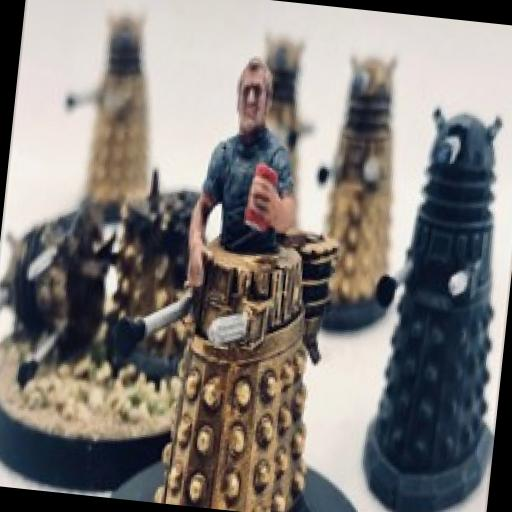dalek: (86, 211, 339, 512), (346, 92, 512, 512), (300, 47, 419, 341), (51, 5, 175, 205), (244, 34, 327, 194)
